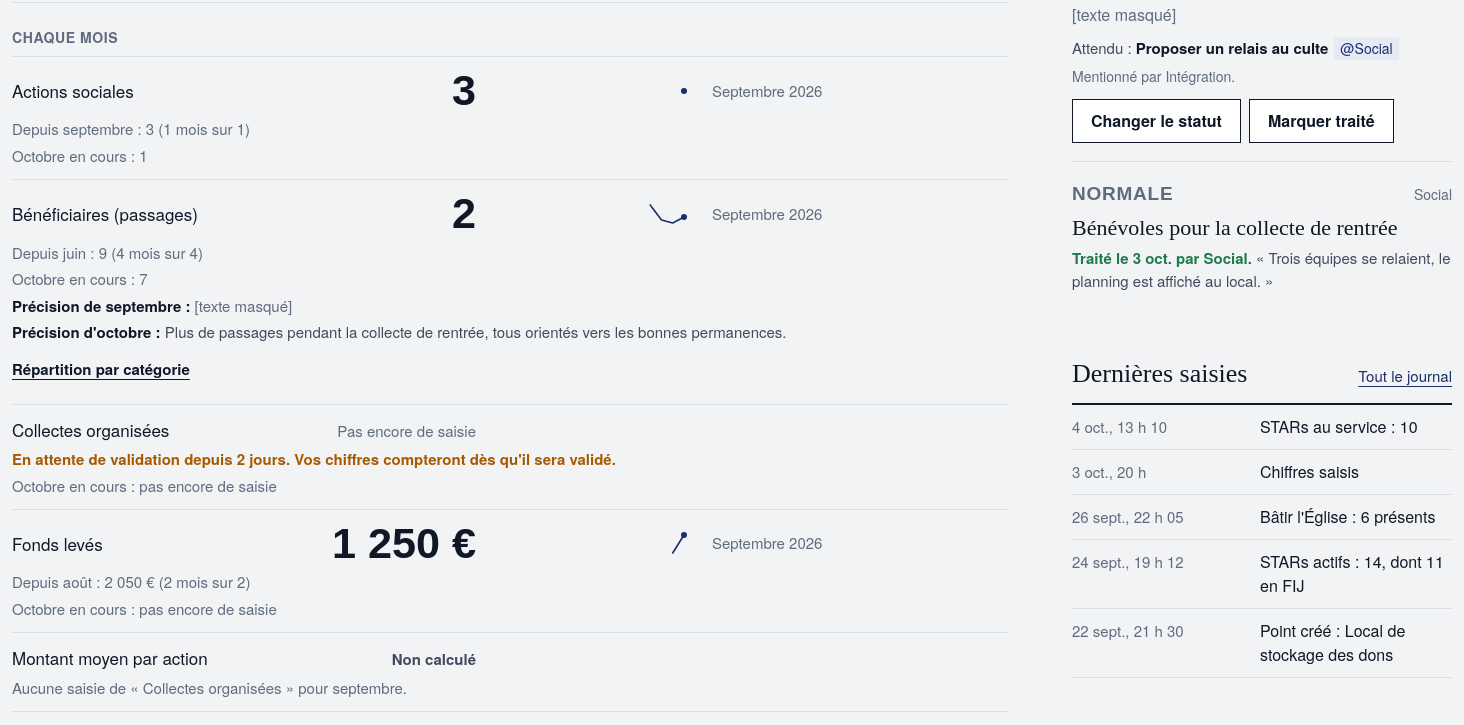
Test case: VueFiche, ministère sur sa fiche (12) › ses valeurs exactes : ni « moins de 3 » ni « masqué »
(page scrolled)
Click the heading "Répartition par catégorie".
click(101, 369)  # box [12,358,190,380]
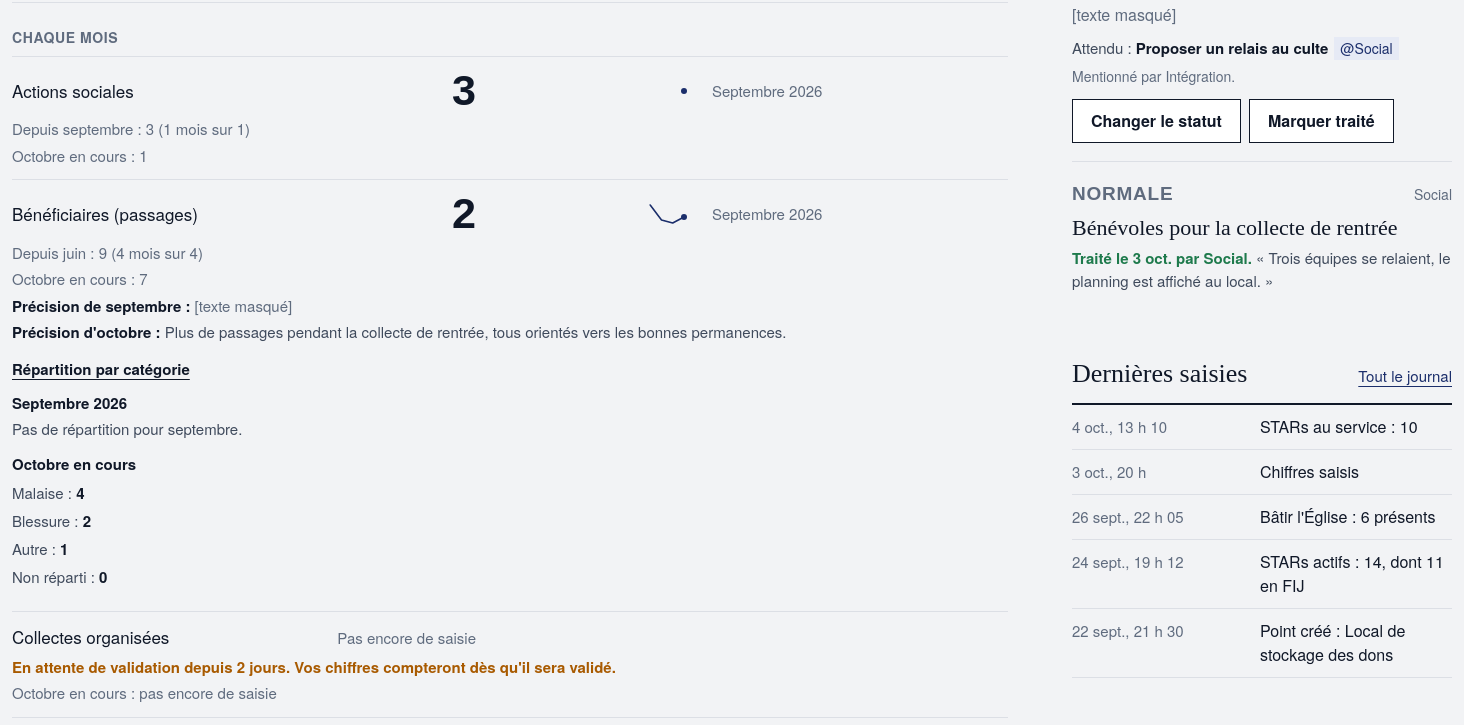
Expected: the text "En attente de validation depuis 2 jours. Vos chiffres compteront dès qu'il sera validé." is shown, [12,656,616,678]
Expected: the text "Malaise :" reads "Malaise : 4", [12,482,84,504]
